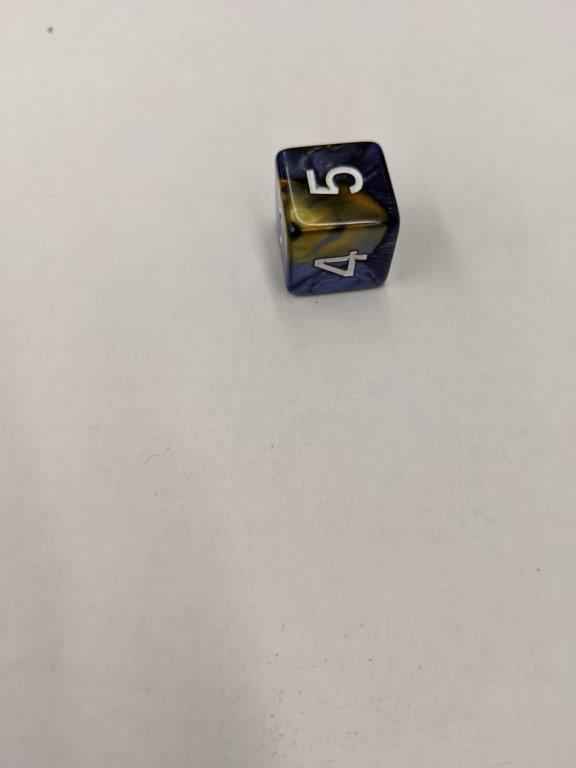d6-5: (274, 140, 405, 294)
